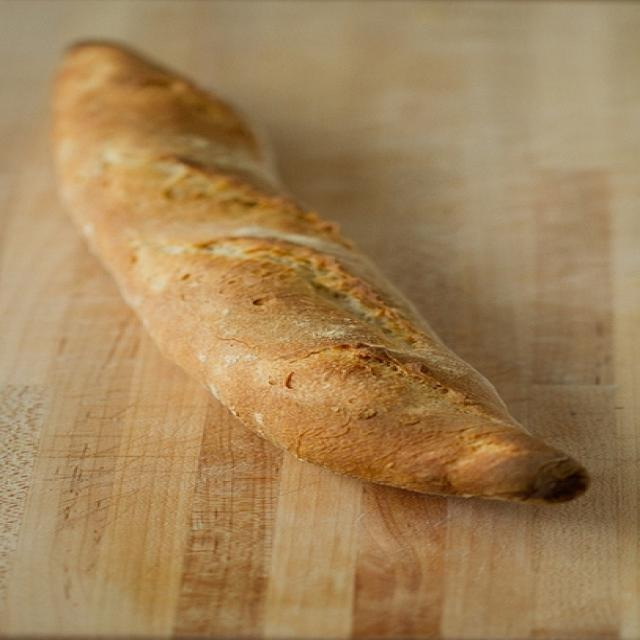Bread: (41, 28, 591, 520)
